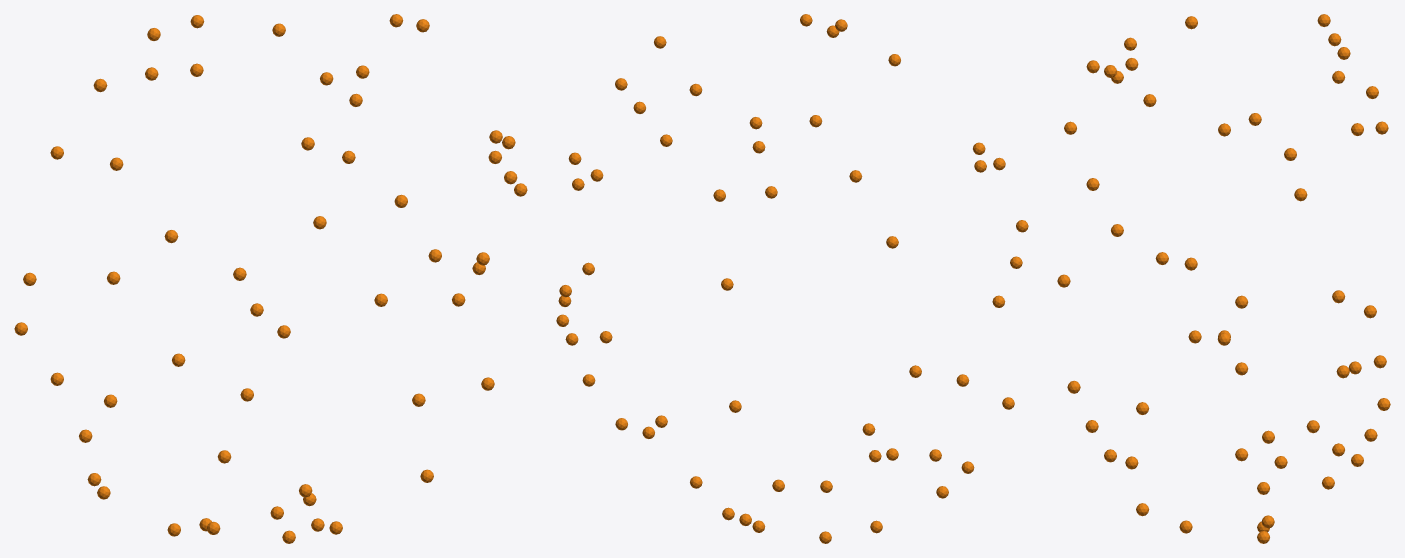
File: citrus_plain_b_fruit.obj
3 renders of one model, left to right at view 1: azimuth 30°, elevation 25°; view 2: azimuth 150°, elevation 25°; view 3: azimuth 270°, elevation 25°, orthographic. The views are drawn at different scales.
Parts seen in each view (by area): view 1: fruit; view 2: fruit; view 3: fruit.
Boxes of the visible parts, <box> form: fruit: <box>14,14,527,543</box>; fruit: <box>556,14,1028,543</box>; fruit: <box>1057,14,1390,543</box>.
Bounding box in the file's own units: 3.06 × 3.07 × 1.91.
